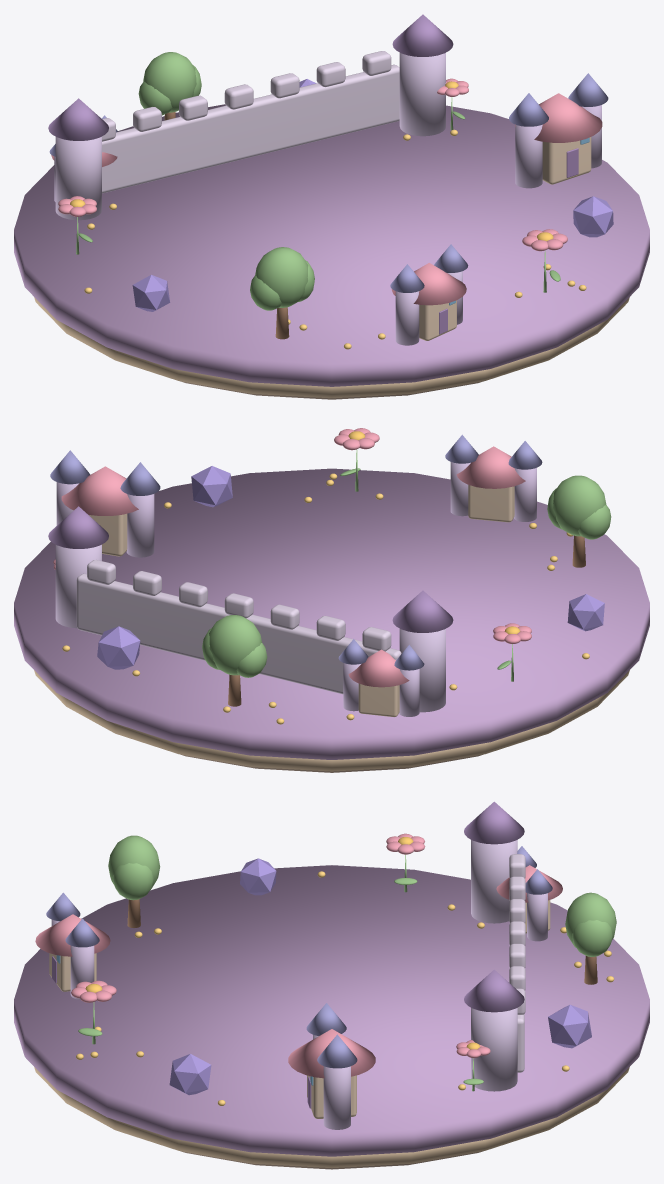
The model's file is world.glb.
3 renders of one model, top to bottom at view 1: azimuth 30°, elevation 25°; view 2: azimuth 150°, elevation 25°; view 3: azimuth 270°, elevation 25°, orthographic.
Visible parts, largest first — view 1: Cone, Cube, castle.001, Cone.001, castle.003, Cone.005, tree.002, Cone.003, tree.001, Cone.004, Cone.006, gem.003 (+10 smaller); view 2: Cone, Cube, castle.001, castle.003, Cone.001, castle.002, tree.001, tree.002, Cone.003, Cone.005, Cone.006, Cone.004 (+13 smaller); view 3: Cone, Cone.001, castle.001, castle.003, Cone.005, Cone.003, tree.002, tree.001, castle.002, Cone.004, Cone.006, gem.001 (+6 smaller).
Part boxes in pixels (box(x1,y1,x2,y2)): Cone: box(14, 104, 649, 386); Cube: box(102, 64, 399, 193); castle.001: box(509, 73, 608, 188); Cone.001: box(34, 297, 629, 398); castle.003: box(390, 244, 468, 345); Cone.005: box(399, 53, 445, 136); tree.002: box(250, 247, 314, 339); Cone.003: box(55, 136, 101, 220); tree.001: box(138, 52, 201, 120); Cone.004: box(48, 98, 108, 140); Cone.006: box(392, 14, 453, 56); gem.003: box(573, 196, 613, 237); Cone: box(14, 468, 649, 759); Cube: box(76, 573, 401, 694); castle.001: box(50, 450, 160, 557); castle.003: box(445, 434, 542, 522); Cone.001: box(34, 670, 629, 771); castle.002: box(338, 639, 424, 717); tree.001: box(202, 615, 267, 706); tree.002: box(547, 475, 611, 567); Cone.003: box(399, 629, 445, 712); Cone.005: box(55, 544, 101, 628); Cone.006: box(48, 506, 108, 548); Cone.004: box(392, 590, 453, 632); Cone: box(14, 865, 649, 1156); Cone.001: box(34, 1067, 629, 1168); castle.001: box(288, 1003, 375, 1129); castle.003: box(35, 892, 110, 999); Cone.005: box(471, 1008, 517, 1091); Cone.003: box(471, 840, 517, 923); tree.002: box(108, 835, 160, 927); tree.001: box(565, 892, 616, 984); castle.002: box(496, 846, 562, 941); Cone.004: box(464, 801, 524, 844); Cone.006: box(464, 969, 524, 1012); gem.001: box(548, 1004, 591, 1048).
Bounding box in the file's own units: 9.62 × 2.67 × 9.6.
